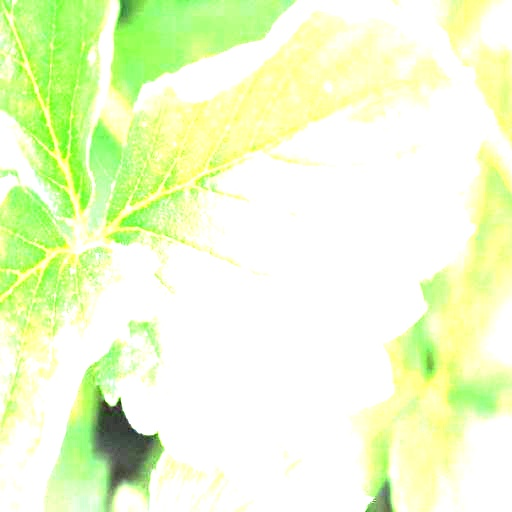Powdery Mildew Leaf: (97, 0, 487, 497), (0, 173, 161, 511)
